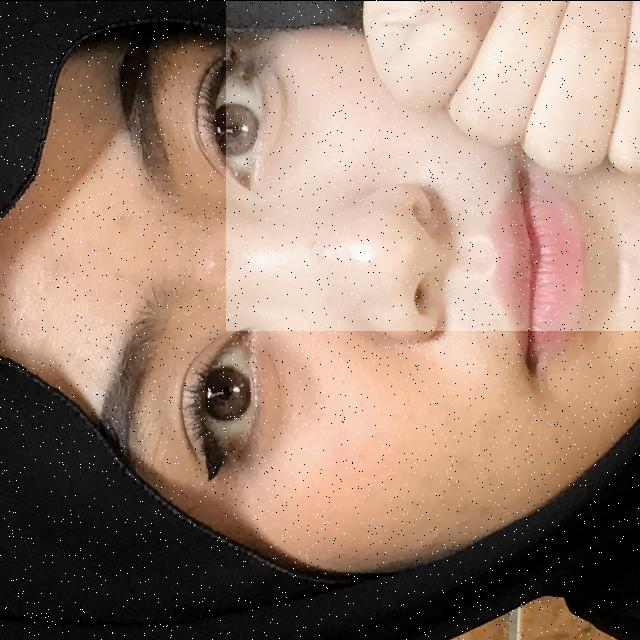sedih: (226, 0, 640, 330)
